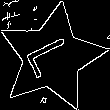L_NE: (22, 32, 82, 83)
